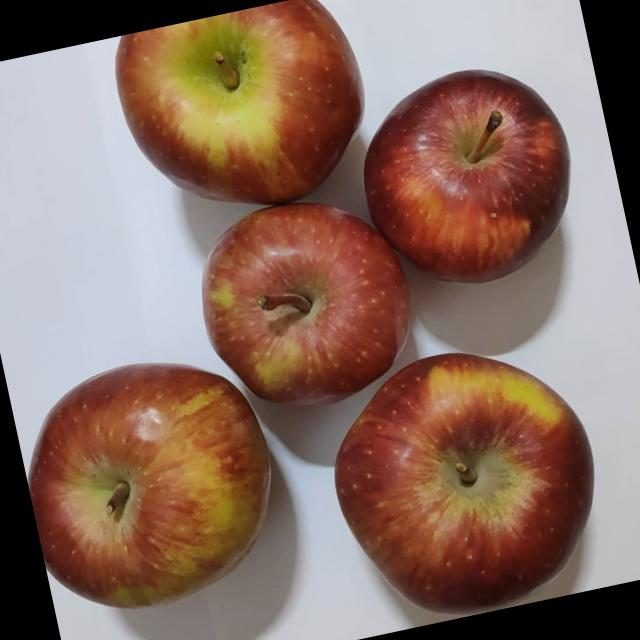apple: (305, 336, 619, 639), (9, 347, 306, 640), (94, 0, 392, 258), (335, 59, 597, 330), (172, 188, 438, 452)
